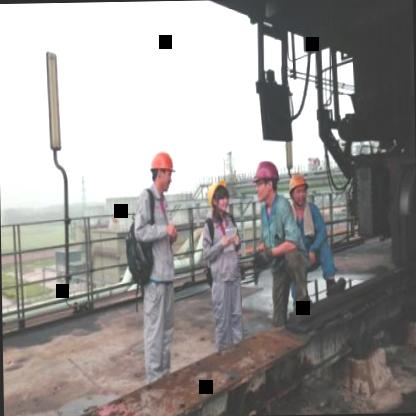helmet: (148, 145, 176, 196), (252, 157, 280, 203), (209, 178, 232, 220), (285, 170, 309, 210)
